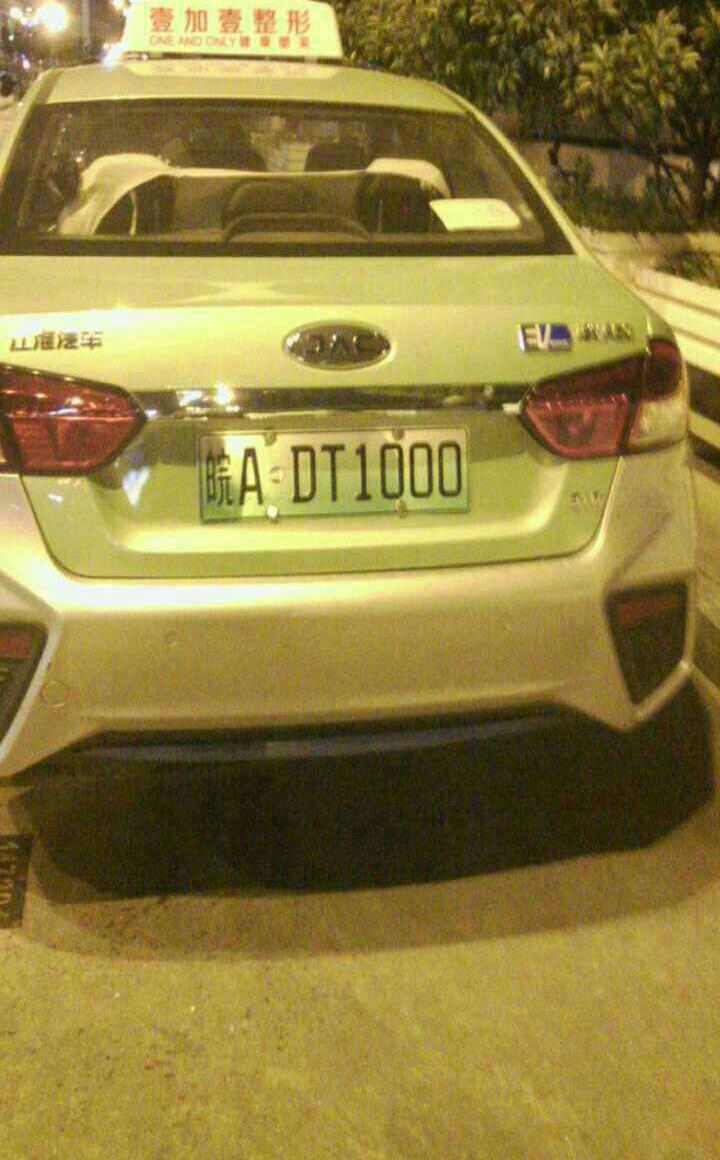car_id: (196, 427, 472, 526)
